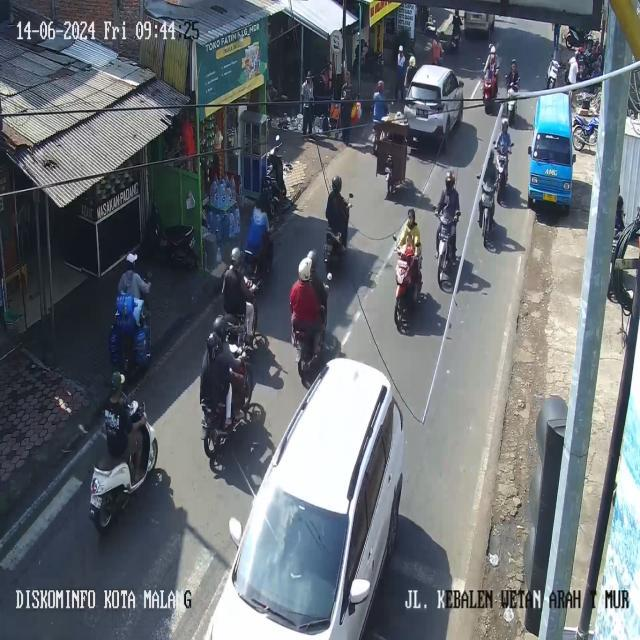Helmet: (212, 315, 228, 340), (207, 333, 222, 357), (298, 257, 311, 281), (111, 371, 124, 391), (231, 247, 242, 264), (332, 176, 342, 193), (307, 250, 316, 267), (445, 170, 454, 187), (407, 208, 415, 221), (501, 118, 508, 131), (377, 80, 384, 92), (409, 55, 416, 66), (489, 149, 493, 162), (490, 45, 495, 53), (511, 58, 516, 65), (454, 9, 458, 15)
Number Plate: (90, 495, 102, 507), (543, 193, 556, 202), (416, 109, 428, 117)
Rearview Mirror: (350, 579, 370, 604), (229, 518, 241, 545), (326, 272, 332, 281), (527, 146, 531, 155), (392, 234, 397, 241), (458, 80, 463, 87), (275, 134, 279, 142), (572, 153, 575, 162), (349, 193, 353, 197), (510, 142, 513, 146)
